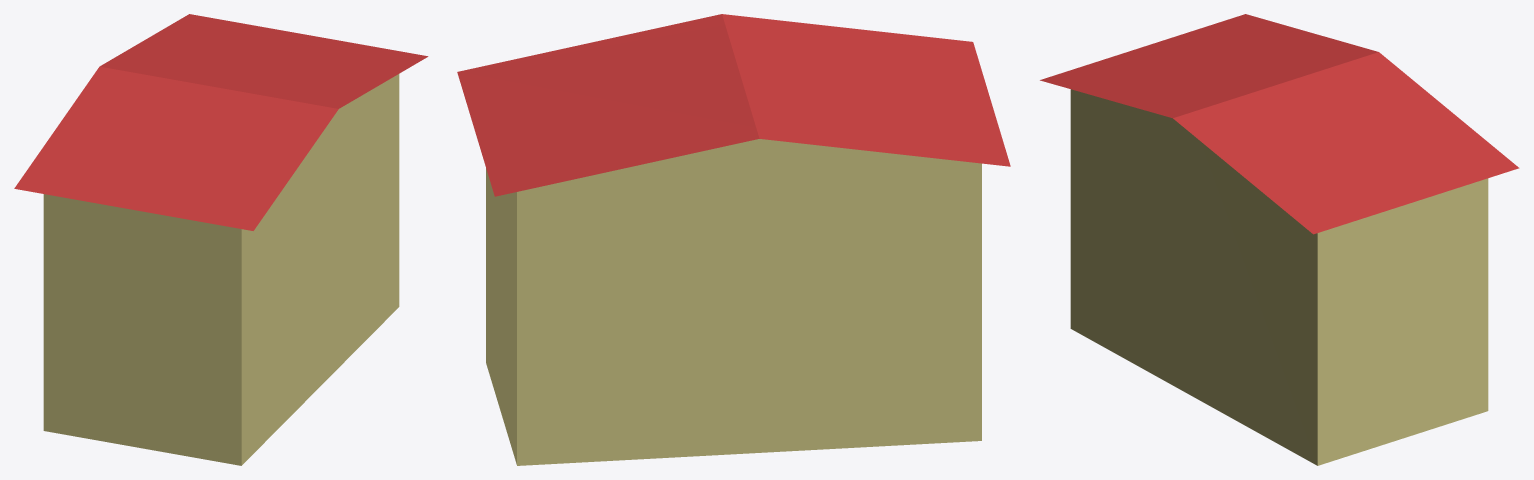
The picture shows the model from 3 angles, left to right: view 1: azimuth 30°, elevation 25°; view 2: azimuth 150°, elevation 25°; view 3: azimuth 270°, elevation 25°; orthographic projection. The views are drawn at different scales.
Bounding box in the file's own units: 11.53 × 10.71 × 6.96.
